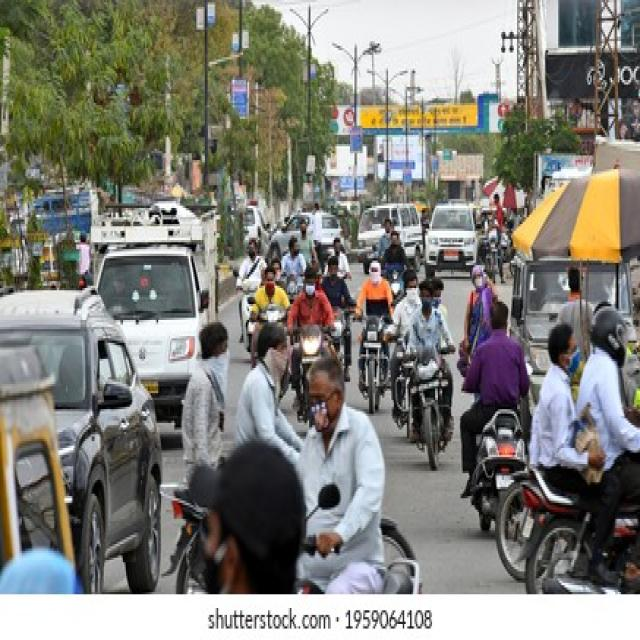car: (1, 291, 161, 593)
motorcycle: (460, 300, 529, 530), (408, 279, 455, 469), (355, 261, 392, 413)
truck: (91, 201, 215, 426)
